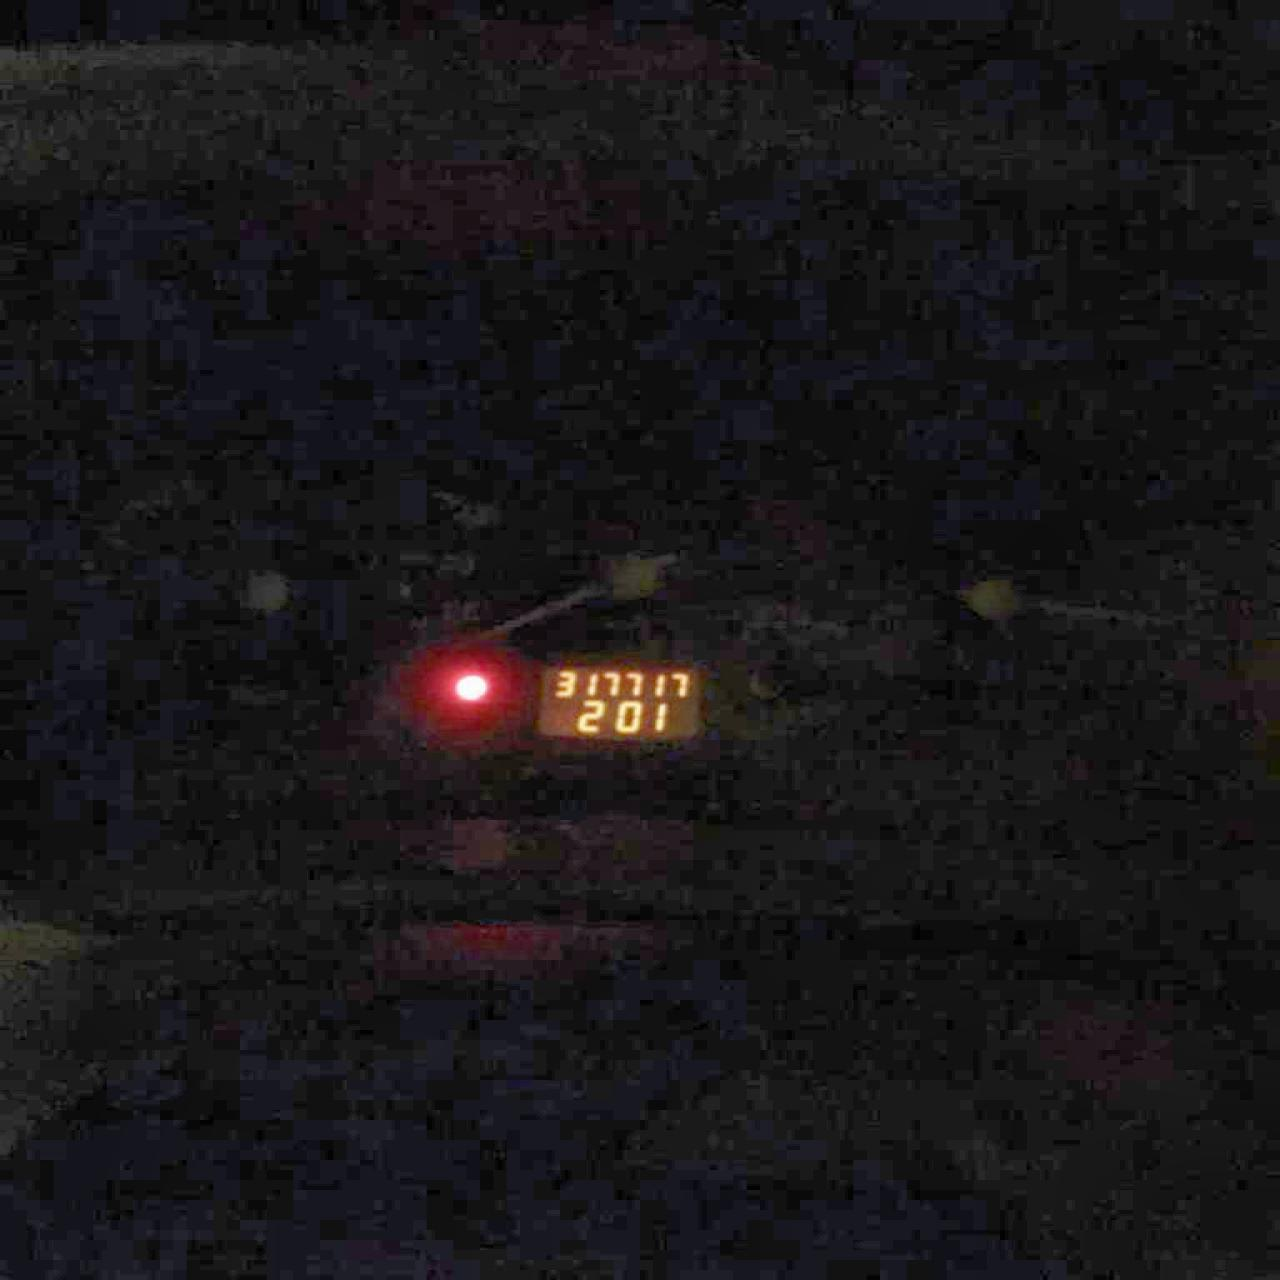0: (615, 700, 641, 733)
1: (652, 700, 667, 735), (652, 672, 666, 696), (585, 670, 597, 696)
2: (576, 697, 605, 733)
3: (553, 667, 577, 697)
7: (670, 670, 687, 697), (601, 670, 618, 695), (625, 670, 640, 695)
odometer: (532, 661, 706, 741)
